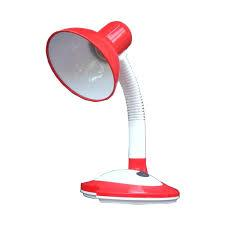Lamp: (39, 15, 185, 206)
